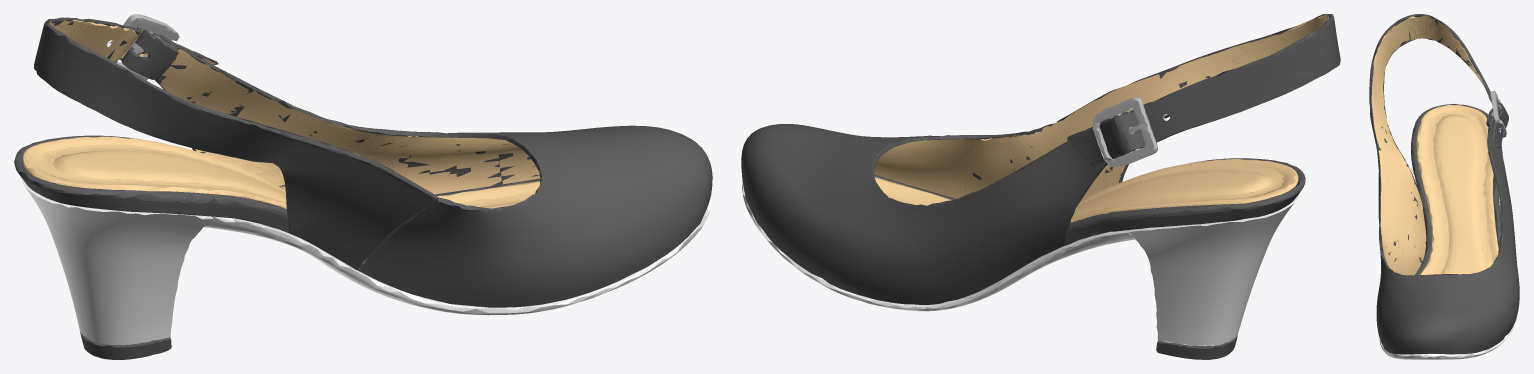
Rendered from shoe.glb.
The picture shows the model from 3 angles, left to right: view 1: azimuth 30°, elevation 25°; view 2: azimuth 150°, elevation 25°; view 3: azimuth 270°, elevation 25°; orthographic projection. The views are drawn at different scales.
Visible parts, largest first — view 1: Outer_part_1, Outer_part, Upper_part, Inner_part_Whole, Upper_part_1, Lower_part_1, Base, Lower_part, Body; view 2: Outer_part_1, Inner_part_Whole, Upper_part, Outer_part, Upper_part_1, Lower_part_1, Base, Body, Lower_part; view 3: Outer_part_1, Upper_part_1, Inner_part_Whole, Outer_part, Lower_part_1, Base, Body.
Boxes of the visible parts, bbox=[...] form: Outer_part_1: bbox=[121, 29, 712, 307]; Outer_part: bbox=[34, 17, 437, 269]; Upper_part: bbox=[21, 177, 214, 344]; Inner_part_Whole: bbox=[49, 20, 540, 263]; Upper_part_1: bbox=[22, 136, 539, 208]; Lower_part_1: bbox=[14, 135, 540, 306]; Base: bbox=[204, 192, 711, 315]; Lower_part: bbox=[80, 332, 171, 359]; Body: bbox=[116, 14, 179, 80]; Outer_part_1: bbox=[741, 116, 1117, 304]; Inner_part_Whole: bbox=[874, 14, 1328, 200]; Upper_part: bbox=[1127, 194, 1298, 346]; Outer_part: bbox=[1057, 14, 1340, 182]; Upper_part_1: bbox=[875, 159, 1298, 222]; Lower_part_1: bbox=[874, 158, 1305, 289]; Base: bbox=[742, 180, 1135, 311]; Body: bbox=[1092, 97, 1157, 166]; Lower_part: bbox=[1156, 335, 1237, 359]; Outer_part_1: bbox=[1376, 106, 1519, 353]; Upper_part_1: bbox=[1416, 105, 1498, 274]; Inner_part_Whole: bbox=[1371, 15, 1501, 275]; Outer_part: bbox=[1369, 14, 1508, 259]; Lower_part_1: bbox=[1400, 104, 1500, 354]; Base: bbox=[1379, 177, 1514, 359]; Body: bbox=[1490, 91, 1506, 137].
Size of the model in its own units: 20.34 by 10.77 by 7.4.
